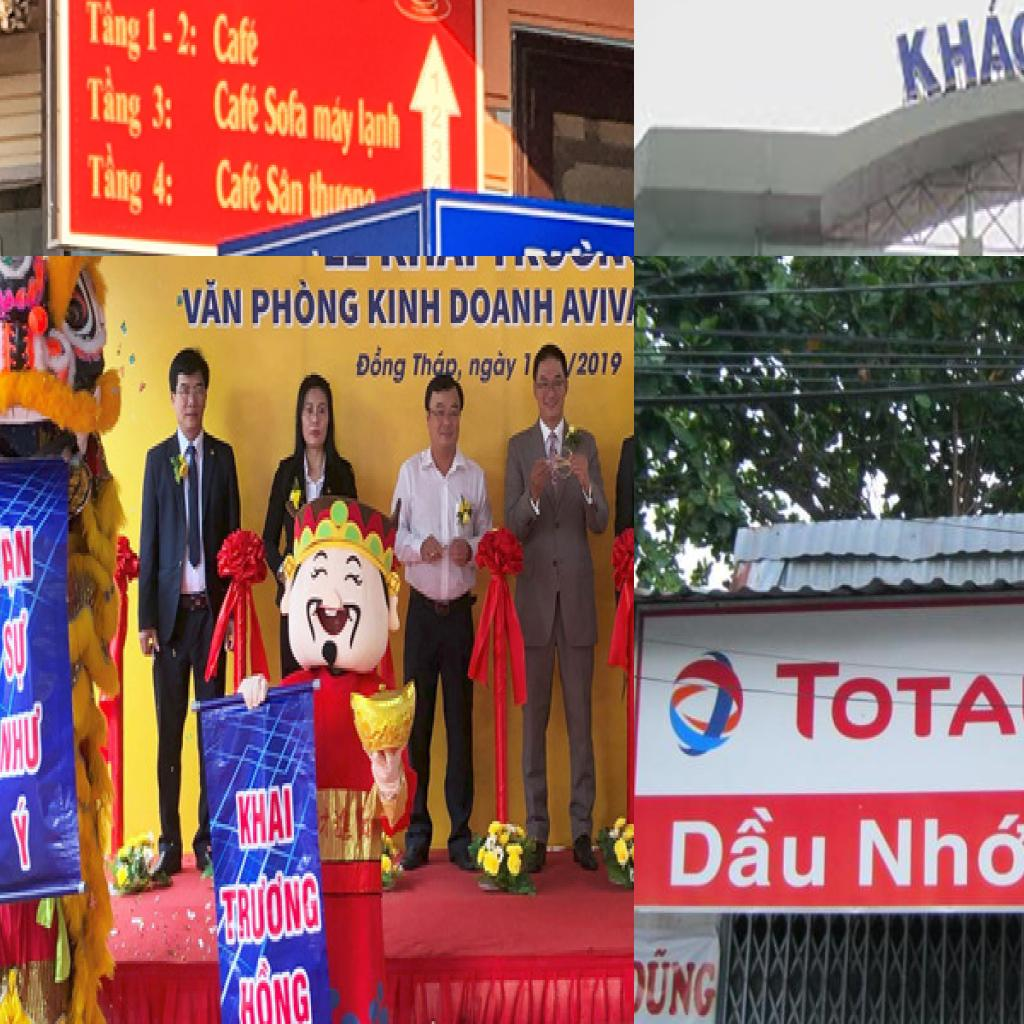text: (771, 653, 1024, 743), (664, 796, 834, 902), (887, 0, 1024, 115), (855, 802, 1024, 894), (219, 868, 323, 950), (634, 941, 719, 1020), (248, 276, 360, 334), (236, 952, 316, 1024), (84, 62, 146, 148), (449, 282, 555, 331), (84, 143, 146, 225), (232, 780, 298, 854), (83, 0, 143, 68), (0, 698, 44, 785), (180, 276, 244, 334), (210, 6, 264, 74), (210, 148, 262, 218), (208, 76, 263, 141), (0, 517, 39, 607), (366, 282, 442, 328), (560, 281, 634, 328), (357, 95, 403, 165), (518, 229, 634, 256), (310, 95, 355, 160), (263, 83, 312, 141), (0, 608, 31, 695), (354, 342, 410, 389), (485, 256, 634, 273), (265, 158, 307, 218), (6, 794, 36, 876), (468, 350, 521, 389), (265, 236, 367, 256), (565, 348, 627, 380), (147, 76, 175, 146), (172, 4, 202, 67), (148, 158, 179, 215), (412, 348, 466, 380), (379, 256, 478, 273), (143, 4, 159, 62), (318, 256, 371, 273), (521, 348, 538, 380)
